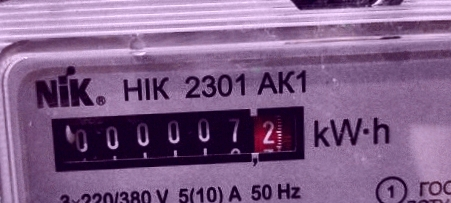0: (133, 120, 152, 148), (103, 123, 121, 152), (195, 115, 212, 144), (72, 126, 90, 153), (165, 117, 181, 145)
2: (260, 117, 277, 147)
7: (225, 115, 242, 145)
screen: (42, 97, 318, 177)
